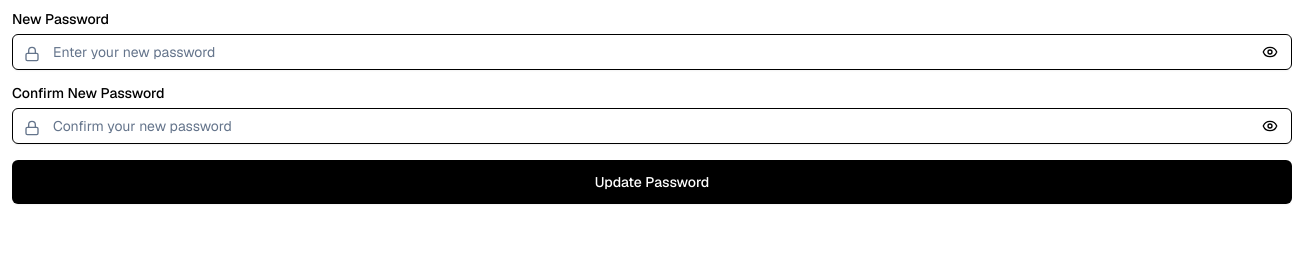
ResetPasswordForm › shows password complexity validation errors
The image size is (1304, 277).
Test password without uppercase, lowercase, and number
Type "simplepassword" into the password field with placeholder "Enter your new password" at (652, 52), box x1=12 y1=34 x2=1292 y2=70
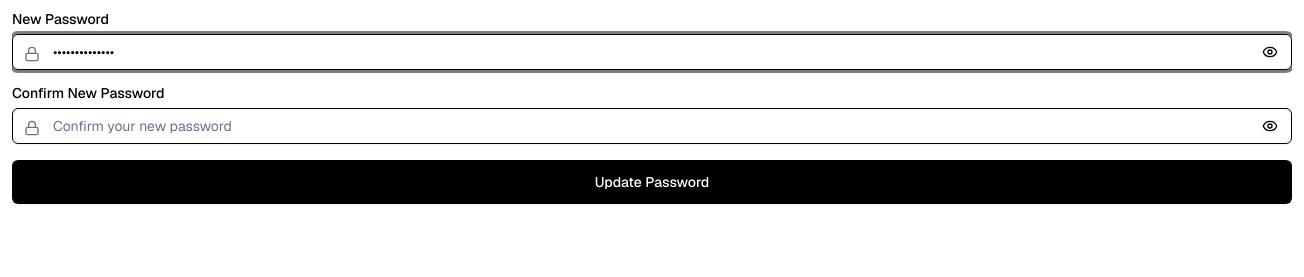
Click the button "Update Password" at (652, 182), box x1=12 y1=160 x2=1292 y2=204
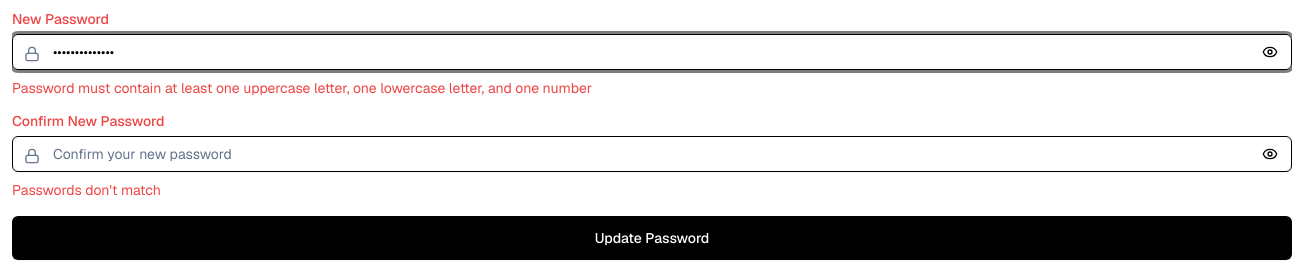
Expected: the text "Password must contain at least one uppercase letter" is shown, x1=12 y1=79 x2=592 y2=97
